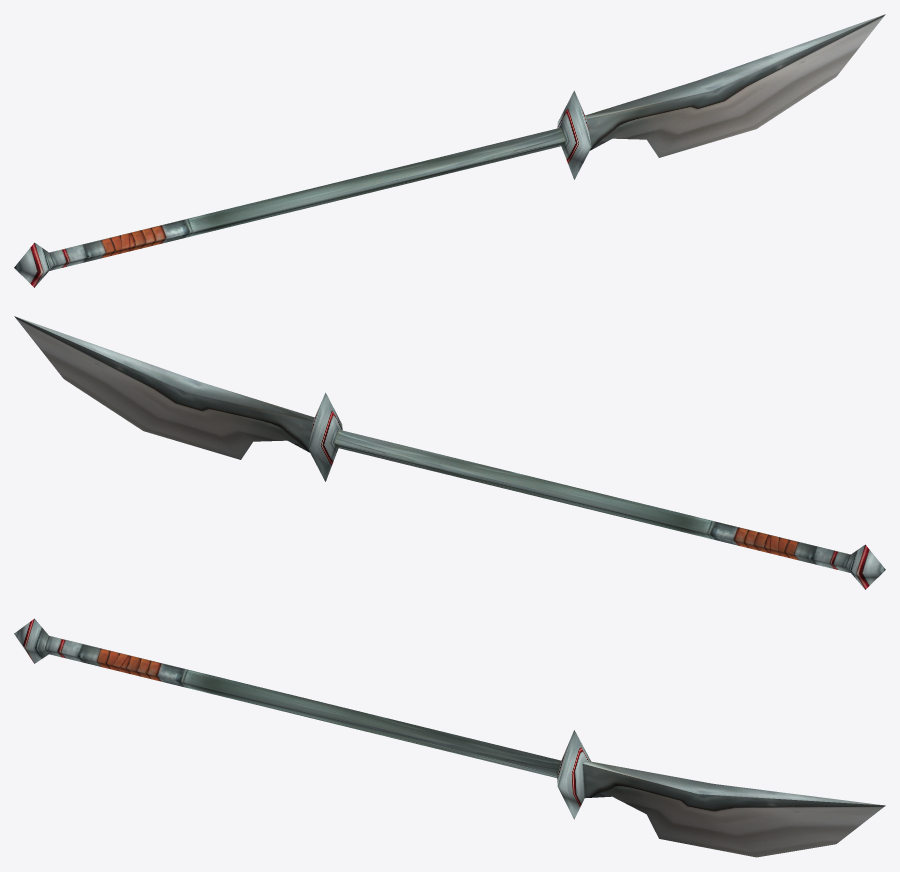
Rendered from humanspear02.obj.
The picture shows the model from 3 angles, top to bottom: view 1: azimuth 30°, elevation 25°; view 2: azimuth 150°, elevation 25°; view 3: azimuth 330°, elevation 25°; orthographic projection.
Parts seen in each view (by area): view 1: humanspear02; view 2: humanspear02; view 3: humanspear02.
Boxes of the visible parts, left/top/right/bottom form: humanspear02: left=14, top=14, right=885, bottom=287; humanspear02: left=14, top=316, right=885, bottom=589; humanspear02: left=14, top=618, right=885, bottom=857.
Size of the model in its own units: 2.75 by 0.2724 by 0.1849.
Materials: 1 (1 with a texture image).
